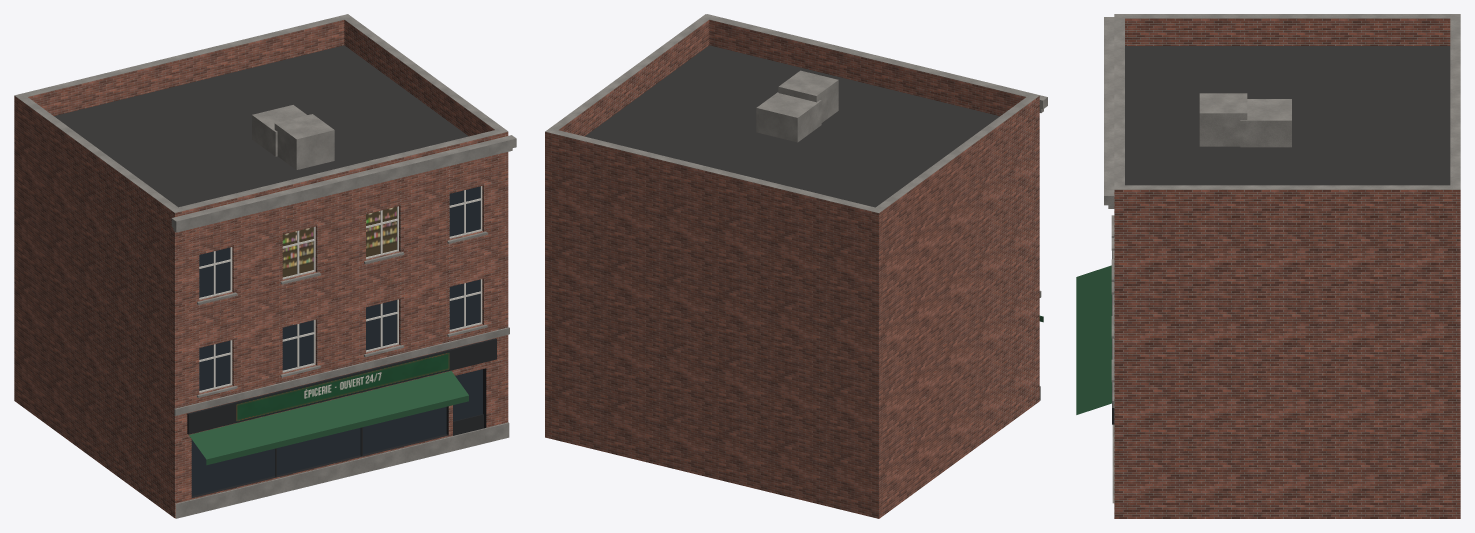
The model's file is Bld_Epicerie.fbx.
3 views of the same model, side by side, from view 1: azimuth 30°, elevation 25°; view 2: azimuth 150°, elevation 25°; view 3: azimuth 270°, elevation 25° (orthographic). The views are drawn at different scales.
Visible parts, largest first — view 1: Bld_Epicerie; view 2: Bld_Epicerie; view 3: Bld_Epicerie.
Boxes of the visible parts, left/top/right/bottom form: Bld_Epicerie: left=14, top=14, right=516, bottom=518; Bld_Epicerie: left=545, top=14, right=1047, bottom=518; Bld_Epicerie: left=1076, top=14, right=1460, bottom=518.
Size of the model in its own units: 12.24 by 10.68 by 11.1.
